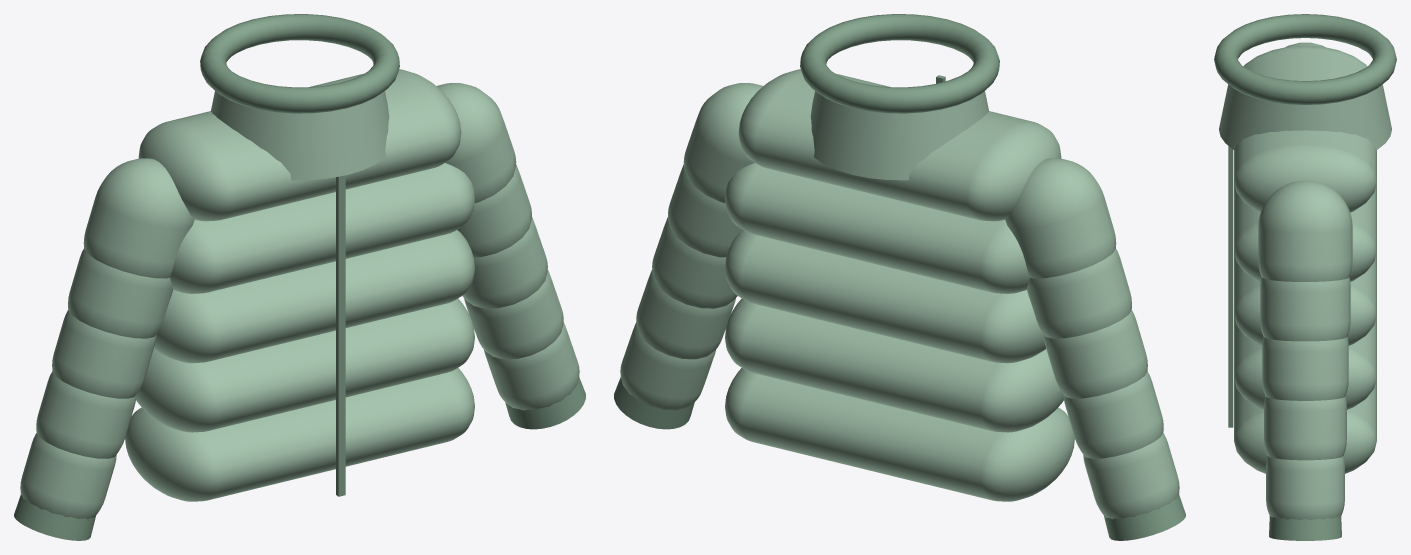
3 renders of one model, left to right at view 1: azimuth 30°, elevation 25°; view 2: azimuth 150°, elevation 25°; view 3: azimuth 270°, elevation 25°, orthographic. The views are drawn at different scales.
Bounding box in the file's own units: 2.46 × 1.78 × 0.76.
